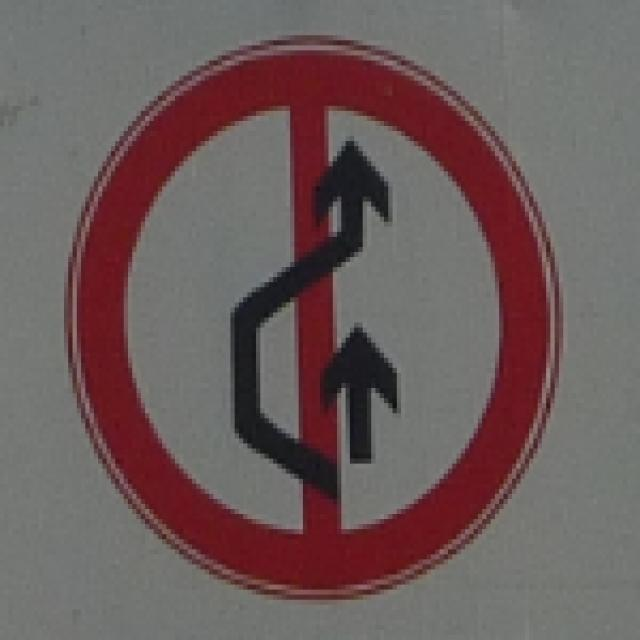Not that Direction: (52, 34, 585, 603)
